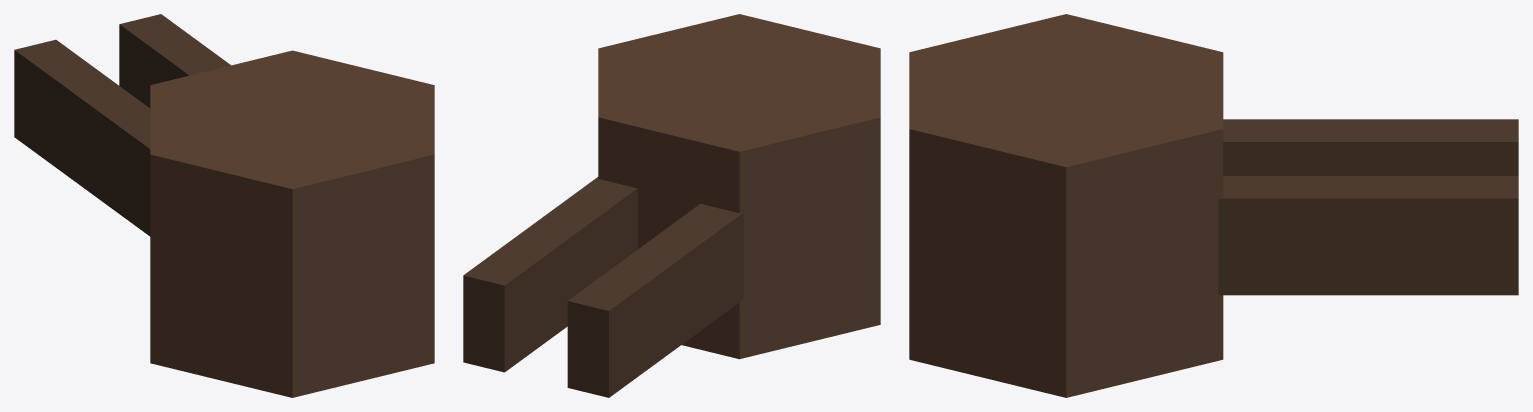
The model's file is SM_Prop_DownPipe_Connector_03.glb.
3 views of the same model, side by side, from view 1: azimuth 30°, elevation 25°; view 2: azimuth 150°, elevation 25°; view 3: azimuth 270°, elevation 25° (orthographic). The views are drawn at different scales.
Parts seen in each view (by area): view 1: SM_Prop_DownPipe_Connector_03; view 2: SM_Prop_DownPipe_Connector_03; view 3: SM_Prop_DownPipe_Connector_03.
Boxes of the visible parts, x1=… form: SM_Prop_DownPipe_Connector_03: x1=14, y1=14, x2=434, y2=397; SM_Prop_DownPipe_Connector_03: x1=463, y1=14, x2=880, y2=397; SM_Prop_DownPipe_Connector_03: x1=909, y1=14, x2=1518, y2=397.
Size of the model in its own units: 0.2783 by 0.1953 by 0.4677.
1 material, 1 textured.
